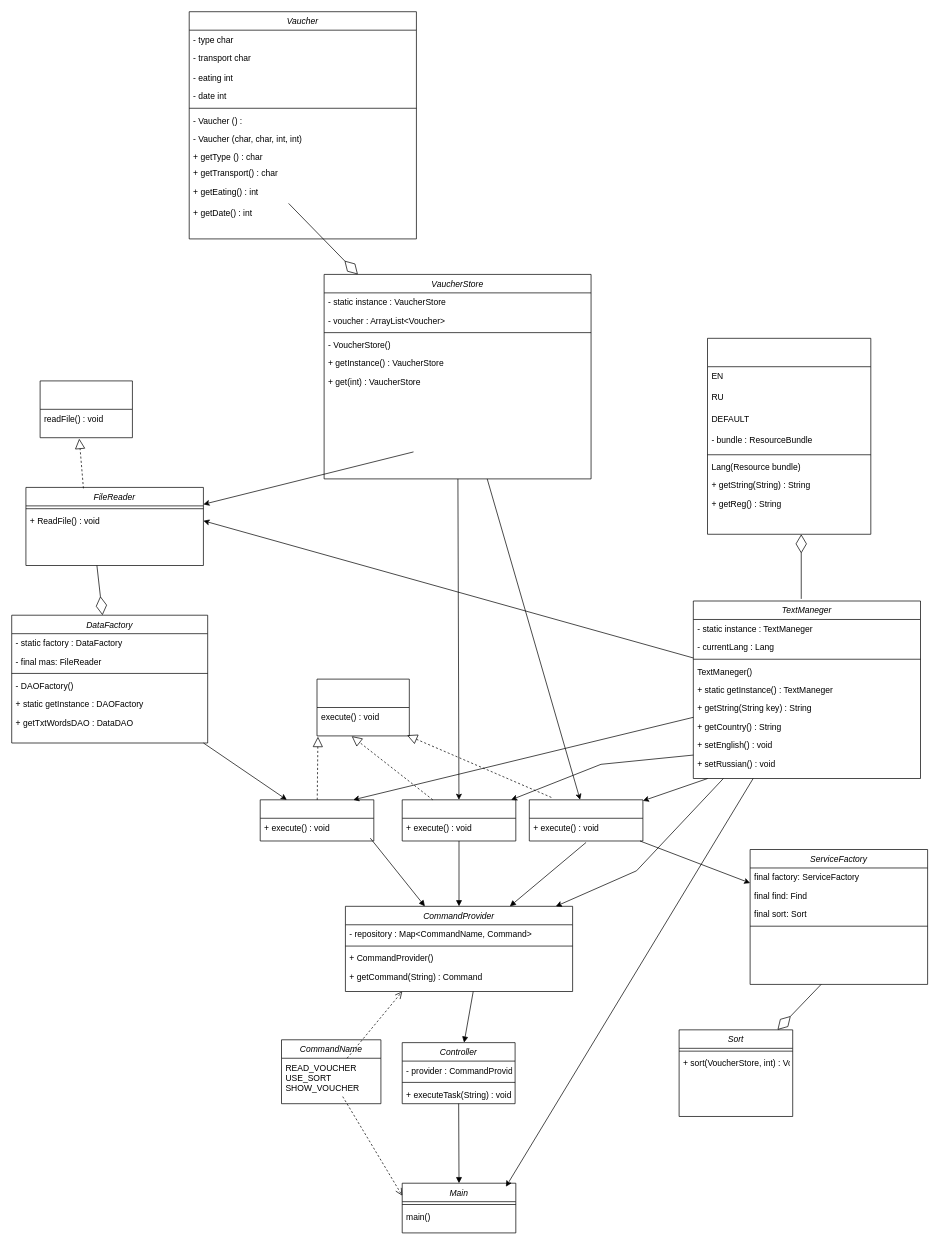
This 939x1245 diagram has some shape labels left out. The box of each missing label's shape, as (x1, y1, x2, y2) in pixels:
"Enum" Lang: (707, 338, 871, 534)
ReadVoucher: (260, 799, 374, 841)
ShowVoucher: (402, 799, 516, 841)
UseSort: (529, 799, 643, 841)
«interface» Command: (316, 678, 409, 736)
«interface» DAO: (39, 380, 132, 438)
